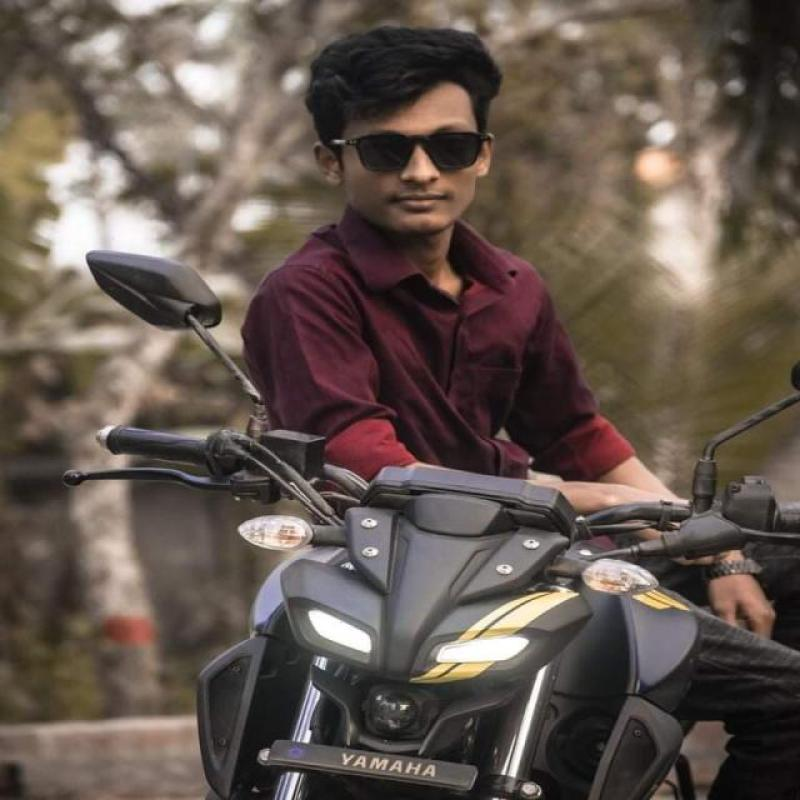nohelmet: (285, 14, 531, 247)
